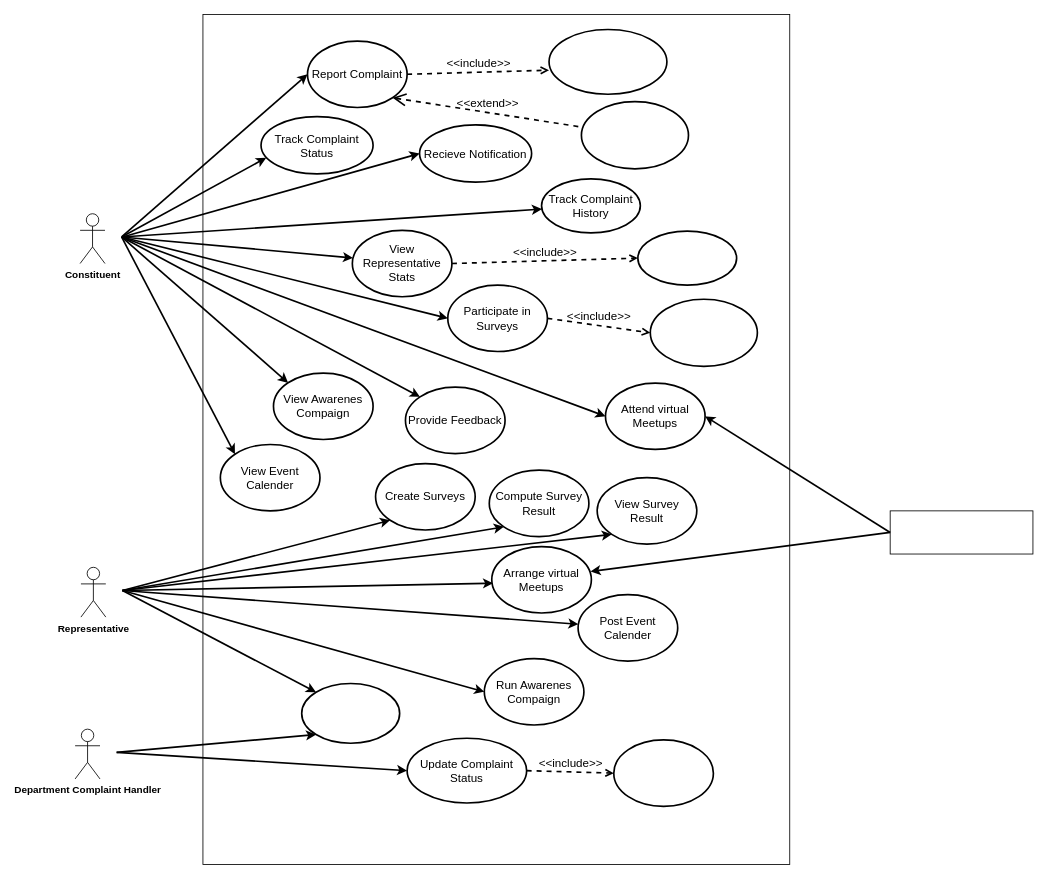
Some shapes in this 1047 by 879 pixel diagram are drawn without their labels. Here are the shapes that lost their labels. From the top down, the centre of each, then its label:
At [607,61]: "Forward Complaint".
At [634,134]: "Highlight Urgent Complaint".
At [687,258]: "Compute Stats".
At [703,332]: "Record Survey Result".
At [961,532]: "<<actor>> Video Conferencing Service".
At [350,713]: "View Complaints".
At [663,773]: "Notify Constituent".
